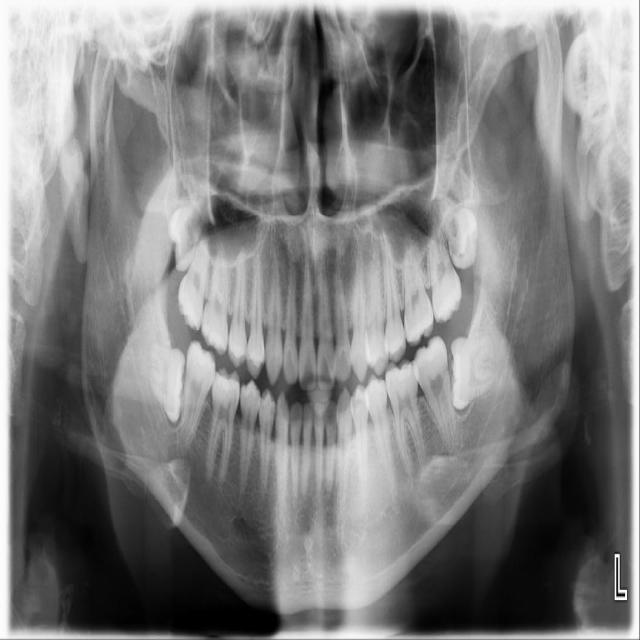3M ESPE Implant: (167, 205, 201, 272)
73: (601, 578, 608, 592)
BioHorizons Implant: (425, 214, 464, 324)
BioLife Implant: (434, 186, 487, 274)
Biomet 3i Implant: (448, 335, 495, 409)
Blue Sky Bio Implant: (409, 334, 462, 453)
Caries: (173, 235, 214, 334)
Implant: (177, 340, 219, 453)
Keystone Dental Implant: (143, 340, 187, 426)
